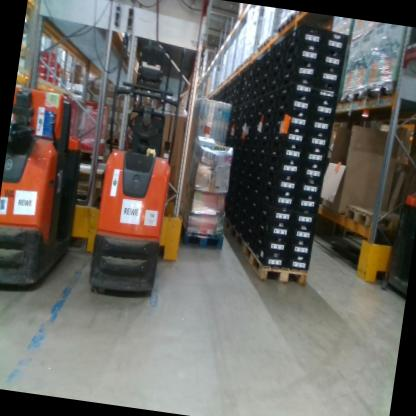pallet: (241, 238, 315, 286), (343, 196, 400, 235), (174, 218, 228, 255), (360, 73, 407, 110), (337, 81, 366, 110), (226, 222, 247, 255), (218, 213, 233, 237)
pallet_truck: (74, 42, 193, 299), (0, 72, 100, 304)
